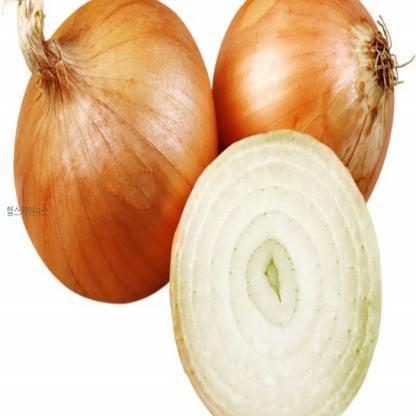onion: (178, 118, 379, 409), (16, 0, 216, 292), (210, 0, 393, 197)
